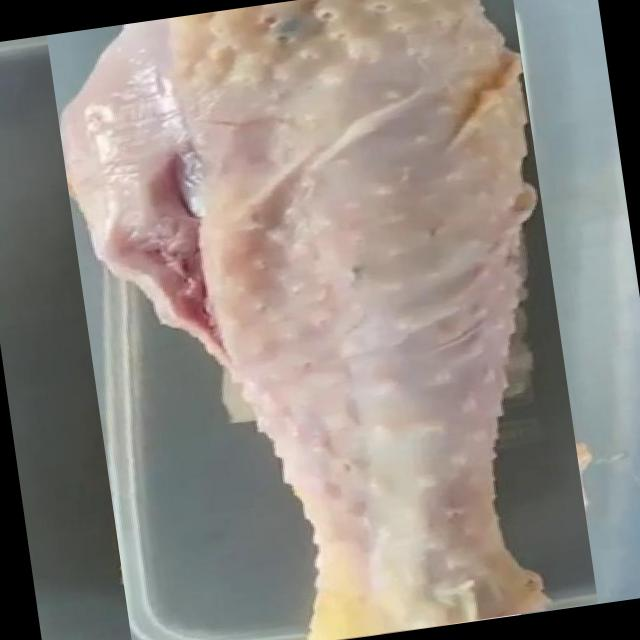chicken: (45, 0, 598, 640)
